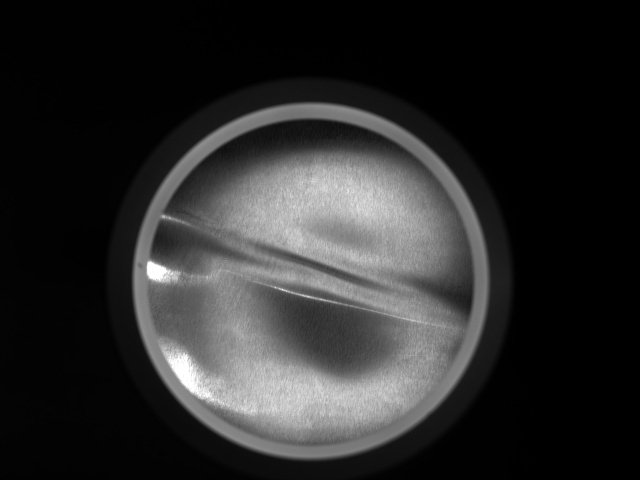zhe_zhou: (188, 150, 432, 409)
